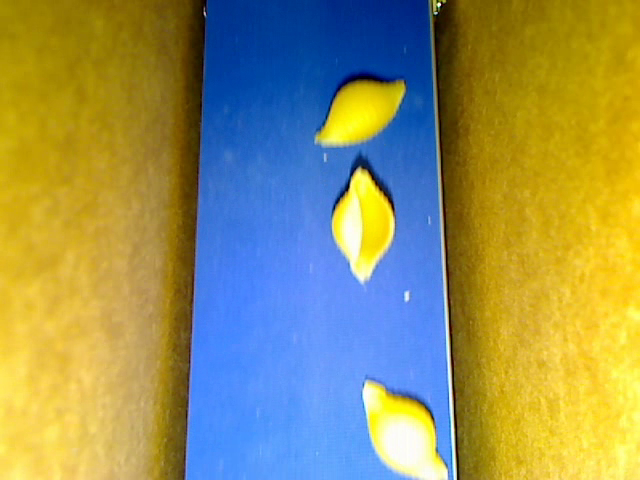shell: (362, 379, 448, 479), (331, 166, 396, 284), (313, 79, 406, 148)
